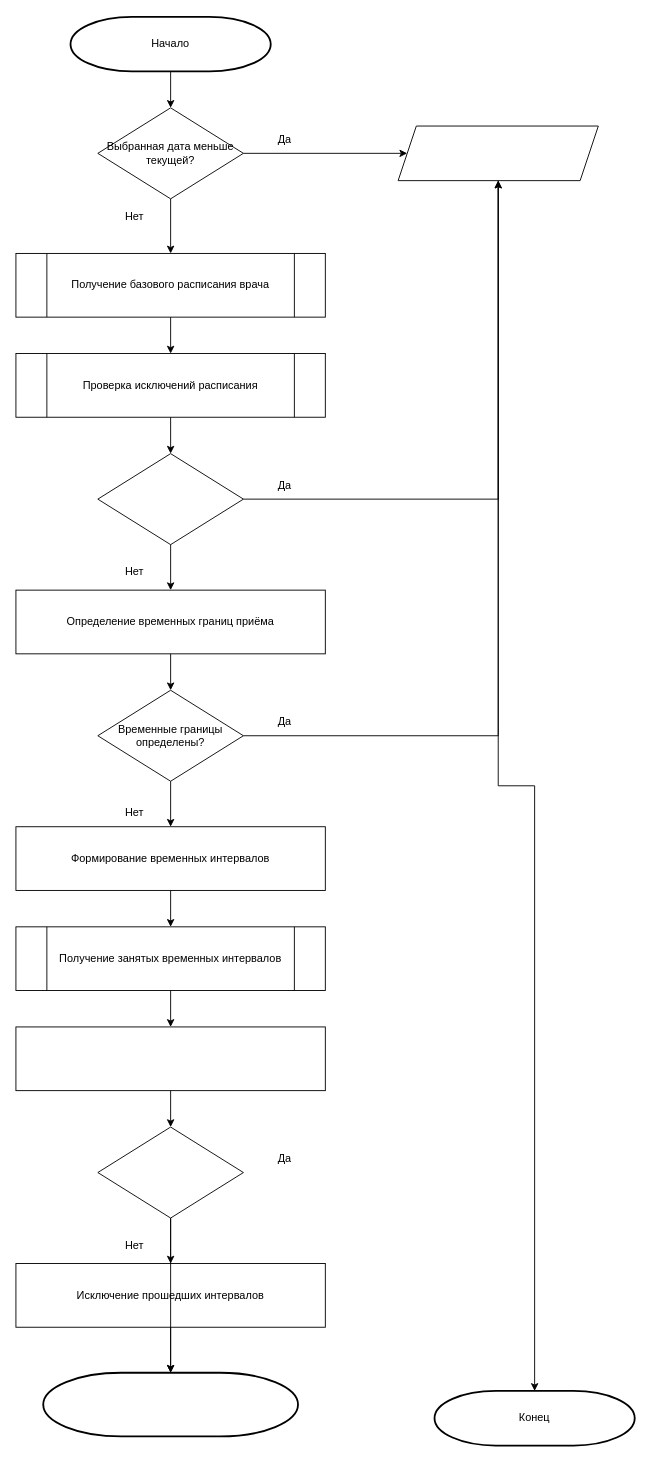
Some shapes in this 652 by 1461 pixel diagram are drawn without their labels. Each missing label, with the centre of its shape:
"Возврат пустого списка" belongs at [497,153].
"Возврат списка свободных интервалов" belongs at [170,1404].
"Выбранная дата совпадает с текущей?" belongs at [170,1172].
"День является нерабочим?" belongs at [170,499].
"Определение свободных интервалов" belongs at [170,1058].
